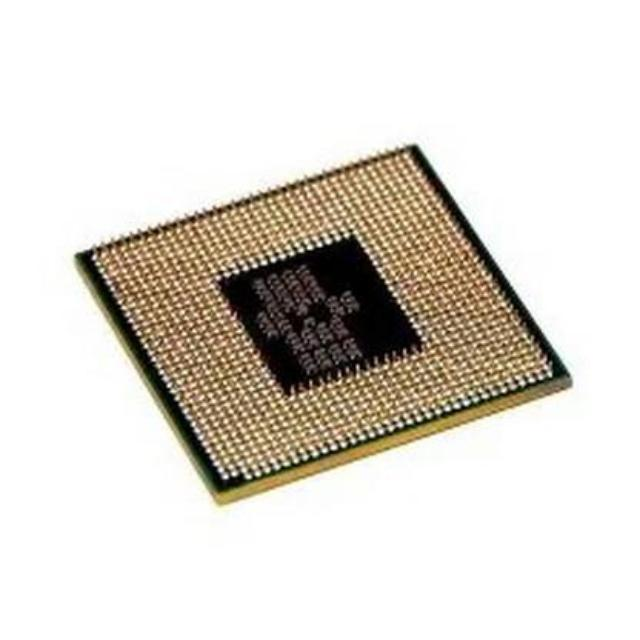CPU: (90, 148, 568, 488)
